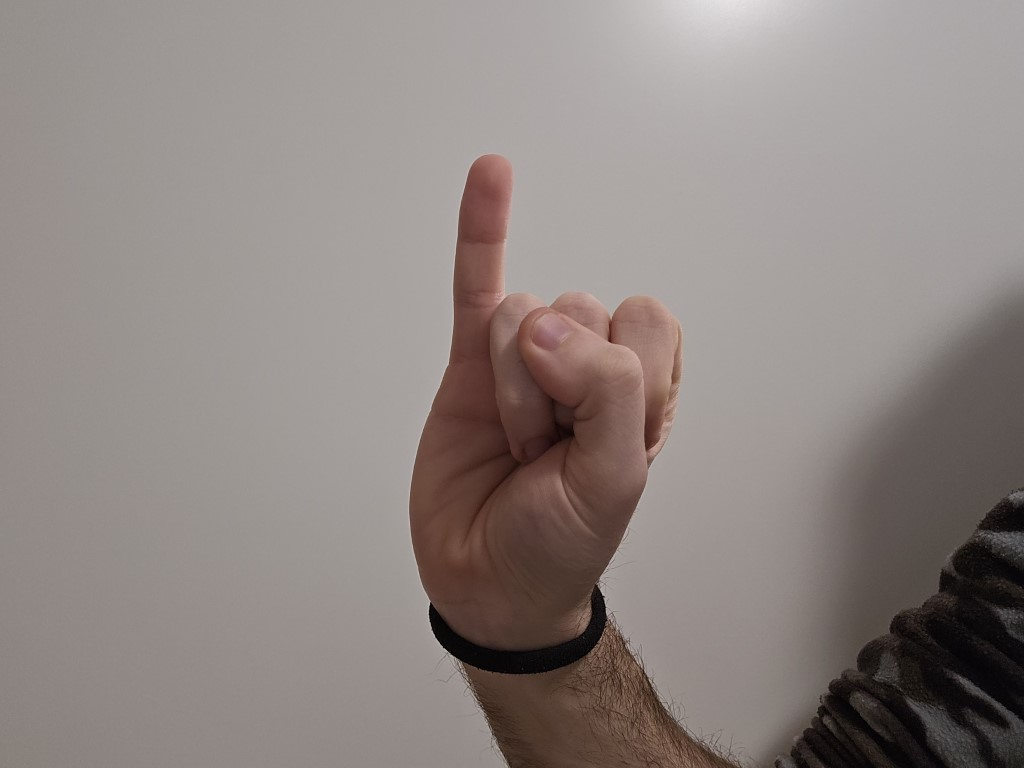i: (384, 139, 695, 611)
